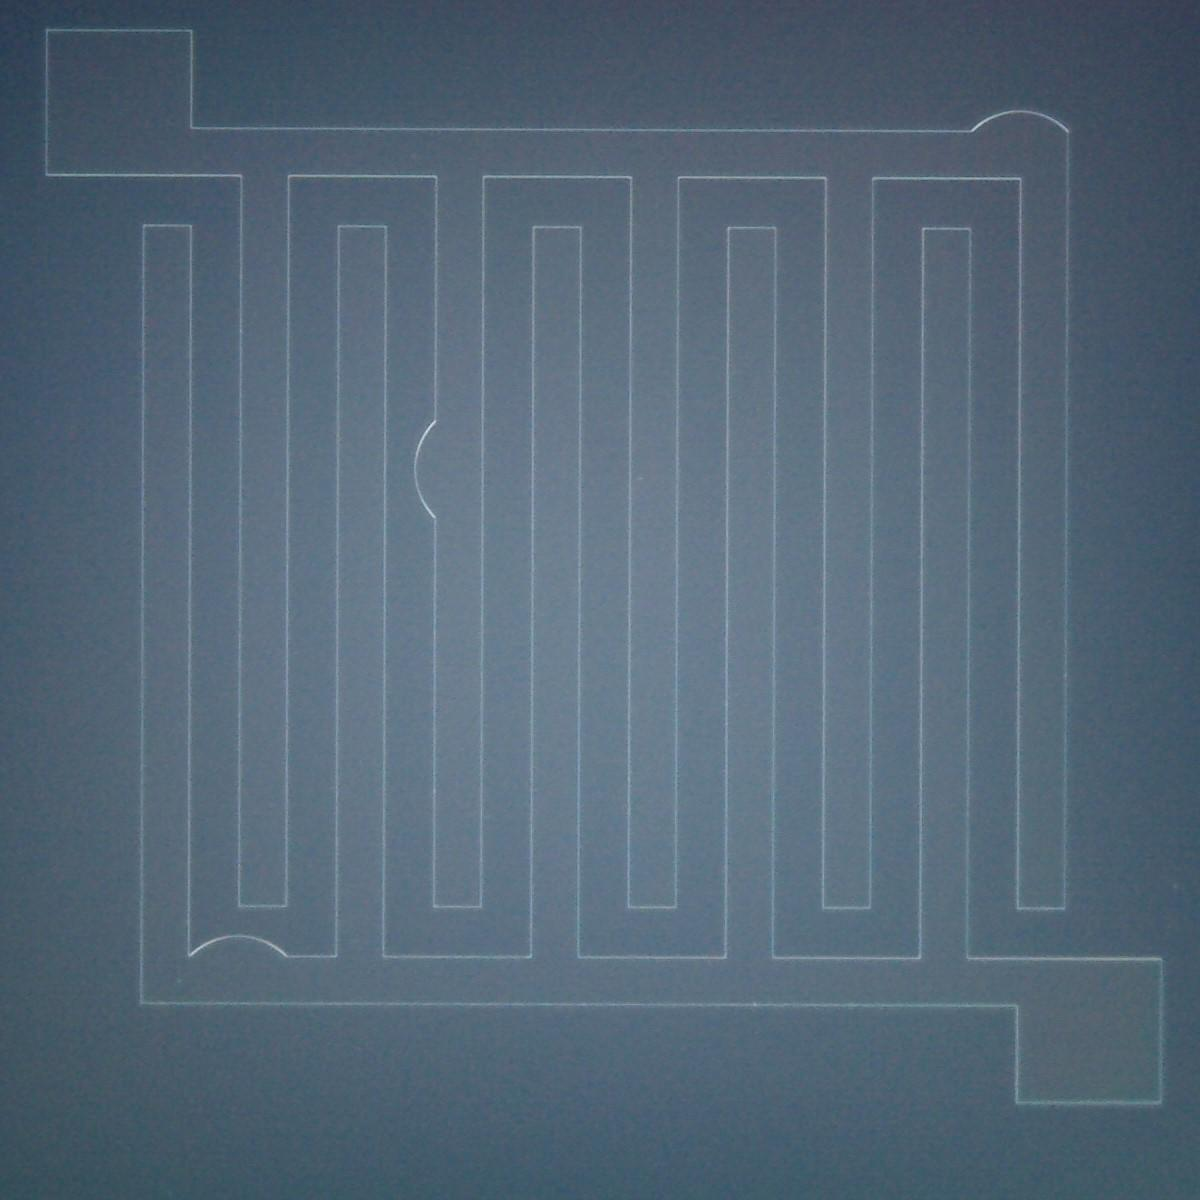project: (169, 915, 303, 990), (405, 404, 467, 537), (962, 98, 1082, 160)
s_point: (634, 473, 647, 486), (1168, 879, 1179, 893), (175, 977, 184, 986)
